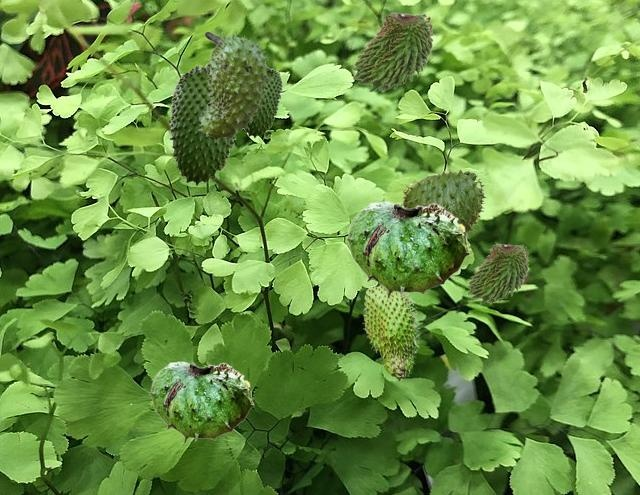guyabano: (346, 201, 469, 298), (149, 361, 253, 443), (197, 31, 273, 142), (169, 64, 236, 185), (351, 9, 433, 91), (402, 168, 486, 248), (362, 285, 419, 380), (466, 241, 528, 303), (244, 68, 281, 137)
